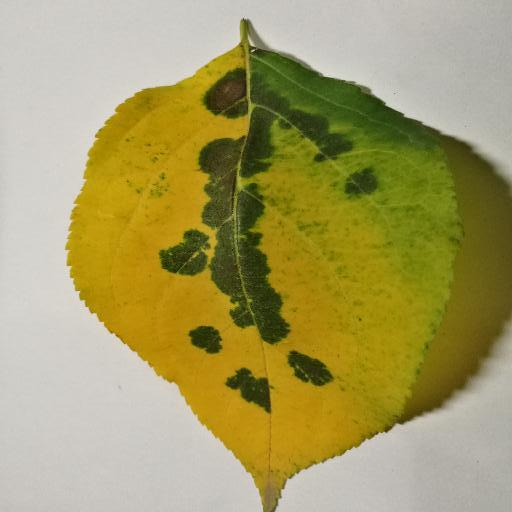Brown_Spot: (200, 143, 241, 209), (201, 66, 248, 118)
